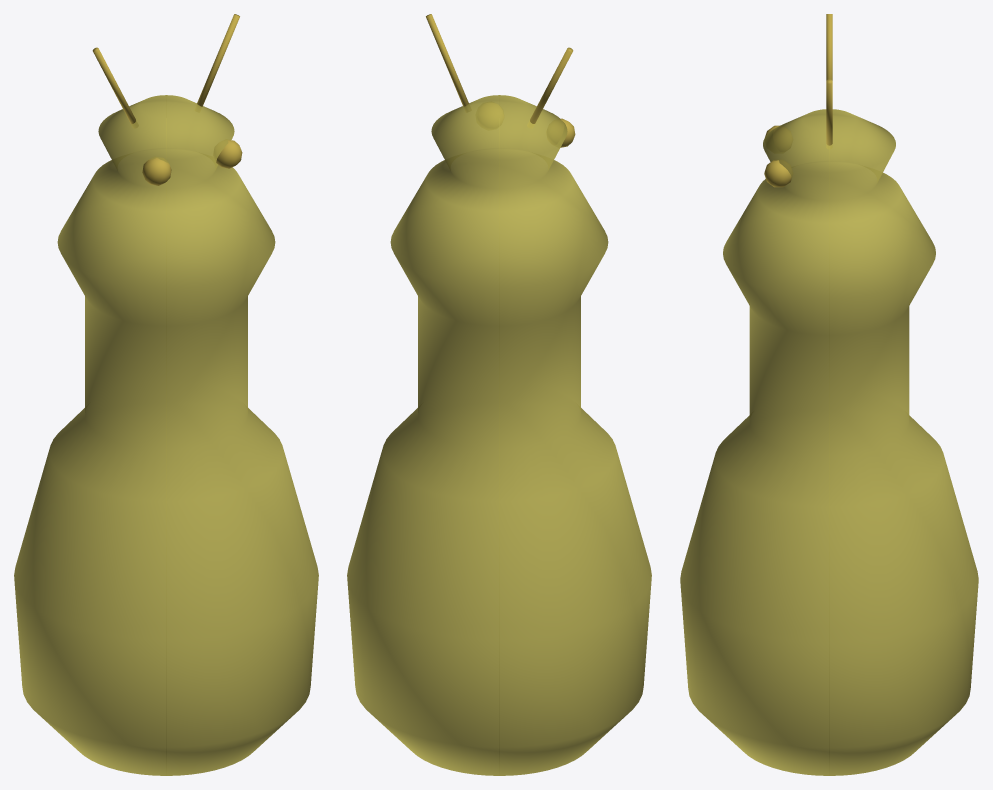
The picture shows the model from 3 angles, left to right: view 1: azimuth 30°, elevation 25°; view 2: azimuth 150°, elevation 25°; view 3: azimuth 270°, elevation 25°; orthographic projection. The views are drawn at different scales.
Parts seen in each view (by area): view 1: TI003 / segmented animal-shaped flask, TI003 / bent neck wire.001, TI003 / ornamental eye, TI003 / ornamental eye.001, TI003 / bent neck wire; view 2: TI003 / segmented animal-shaped flask, TI003 / bent neck wire.001, TI003 / bent neck wire, TI003 / ornamental eye, TI003 / ornamental eye.001; view 3: TI003 / segmented animal-shaped flask, TI003 / ornamental eye.001.
Boxes of the visible parts, x1=… form: TI003 / segmented animal-shaped flask: x1=14, y1=95, x2=318, y2=775; TI003 / bent neck wire.001: x1=194, y1=14, x2=239, y2=112; TI003 / ornamental eye: x1=142, y1=156, x2=171, y2=185; TI003 / ornamental eye.001: x1=213, y1=139, x2=242, y2=168; TI003 / bent neck wire: x1=92, y1=47, x2=138, y2=128; TI003 / segmented animal-shaped flask: x1=347, y1=95, x2=651, y2=775; TI003 / bent neck wire.001: x1=426, y1=14, x2=471, y2=112; TI003 / bent neck wire: x1=527, y1=47, x2=573, y2=128; TI003 / ornamental eye: x1=546, y1=118, x2=575, y2=147; TI003 / ornamental eye.001: x1=477, y1=103, x2=503, y2=129; TI003 / segmented animal-shaped flask: x1=680, y1=109, x2=978, y2=775; TI003 / ornamental eye.001: x1=764, y1=160, x2=792, y2=187.
Bounding box in the file's own units: 1.12 × 2.86 × 1.12.
